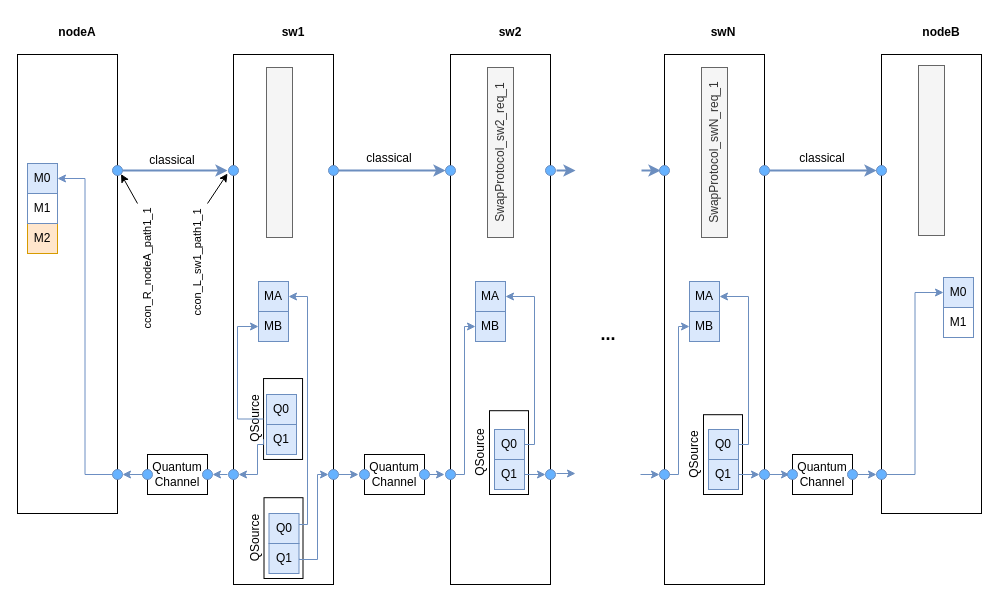
This 999x602 diagram has some shape labels left out. The shapes that lost their labels are listed below. From the top down, each one's box as (x1, y1, x2, y2) in pixels, then its label:
(266, 66, 292, 238): SwapProtocol_sw1_req_1
(918, 64, 944, 236): CorrectProtocol_req_1
